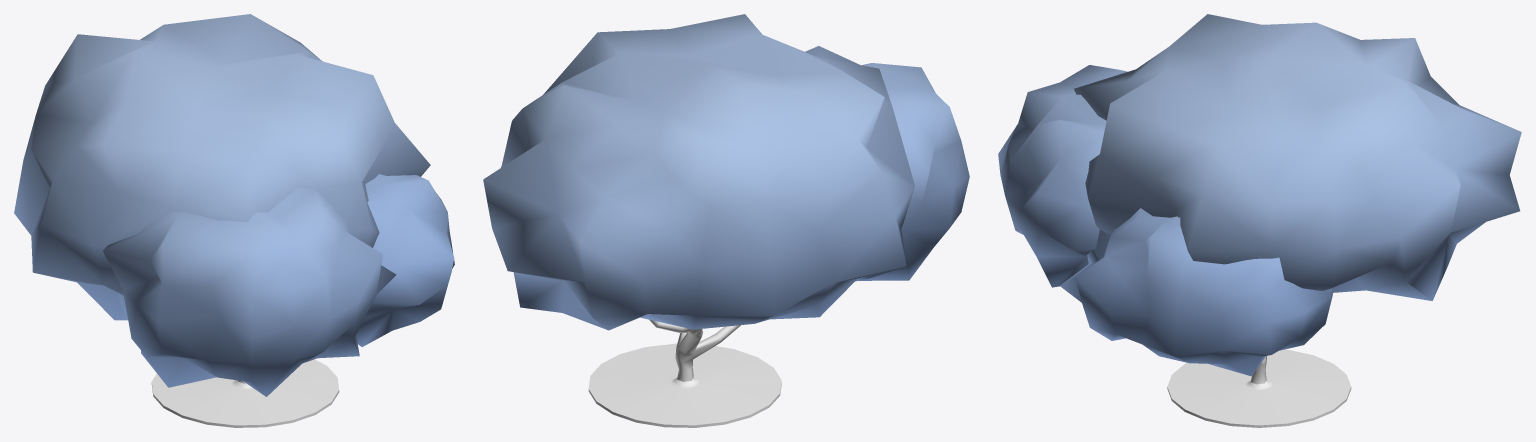
File: puska2.fbx
The picture shows the model from 3 angles, left to right: view 1: azimuth 30°, elevation 25°; view 2: azimuth 150°, elevation 25°; view 3: azimuth 270°, elevation 25°; orthographic projection. The views are drawn at different scales.
Parts seen in each view (by area): view 1: polySurface10; view 2: polySurface10; view 3: polySurface10.
Part boxes in pixels (x1,y1,x2,y2): polySurface10: (14,14,454,427); polySurface10: (483,14,969,427); polySurface10: (998,14,1521,427).
Bounding box in the file's own units: 22.4 × 18.65 × 26.94.
